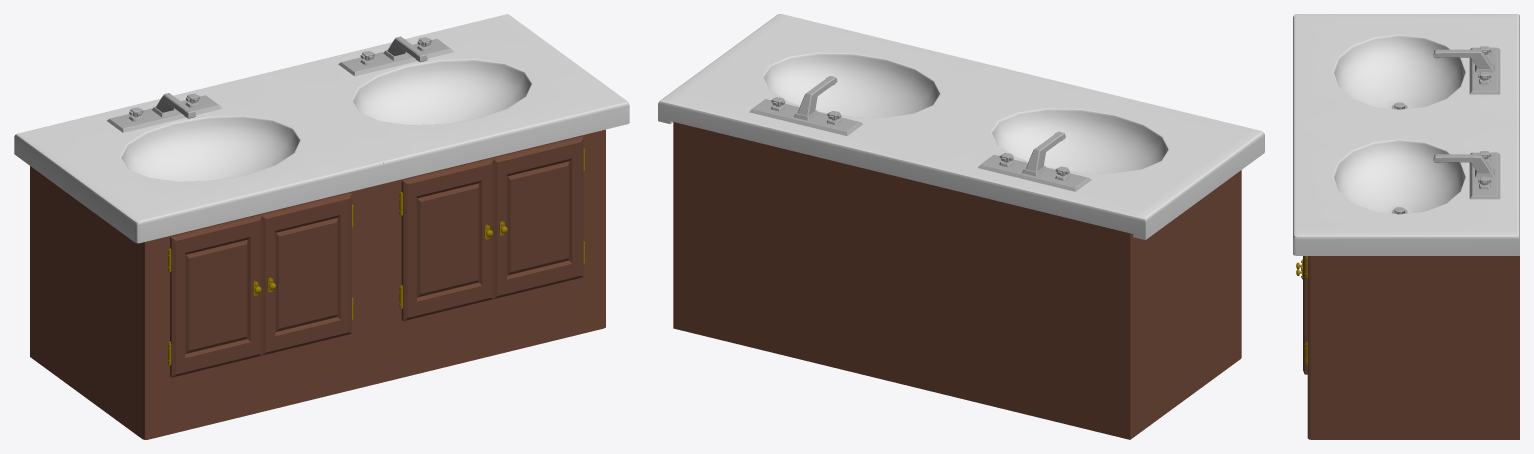
The model's file is Double_Sink_New.fbx.
3 views of the same model, side by side, from view 1: azimuth 30°, elevation 25°; view 2: azimuth 150°, elevation 25°; view 3: azimuth 270°, elevation 25° (orthographic). The views are drawn at different scales.
Visible parts, largest first — view 1: polySurface29; view 2: polySurface29; view 3: polySurface29.
Boxes of the visible parts, left/top/right/bottom form: polySurface29: left=14, top=14, right=629, bottom=439; polySurface29: left=658, top=14, right=1264, bottom=439; polySurface29: left=1293, top=14, right=1519, bottom=439.
Bounding box in the file's own units: 624 × 302 × 268.
